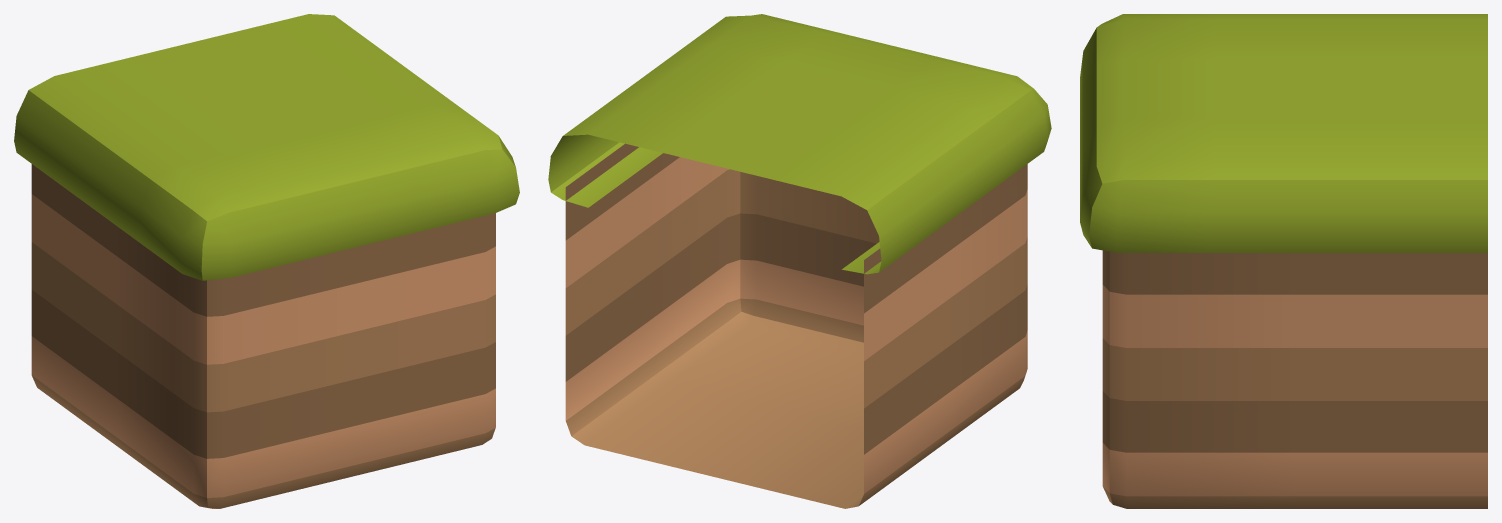
The model's file is Cube_Grass_1x1End.003.fbx.
The picture shows the model from 3 angles, left to right: view 1: azimuth 30°, elevation 25°; view 2: azimuth 150°, elevation 25°; view 3: azimuth 270°, elevation 25°; orthographic projection. The views are drawn at different scales.
Parts seen in each view (by area): view 1: Cube_Grass_1x1End.003; view 2: Cube_Grass_1x1End.003; view 3: Cube_Grass_1x1End.003.
Boxes of the visible parts, left/top/right/bottom form: Cube_Grass_1x1End.003: left=14, top=14, right=519, bottom=508; Cube_Grass_1x1End.003: left=548, top=14, right=1051, bottom=508; Cube_Grass_1x1End.003: left=1080, top=14, right=1487, bottom=508.
Bounding box in the file's own units: 223 × 200 × 212.
